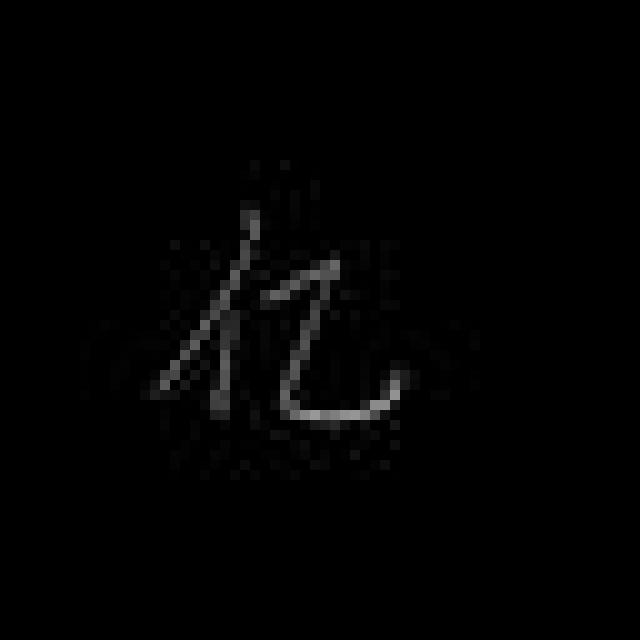100000 -a hundred thousand-: (143, 208, 410, 436)
